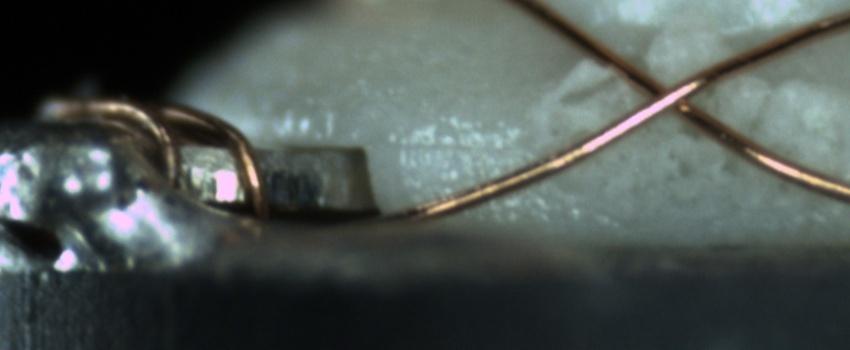CL: (619, 62, 711, 129)
DL: (387, 110, 525, 177)
TE: (36, 91, 280, 228)
